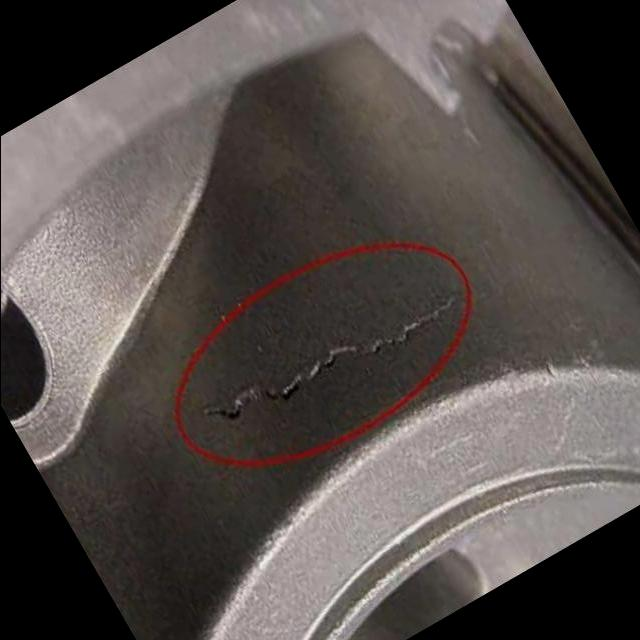defect: (193, 287, 463, 425)
